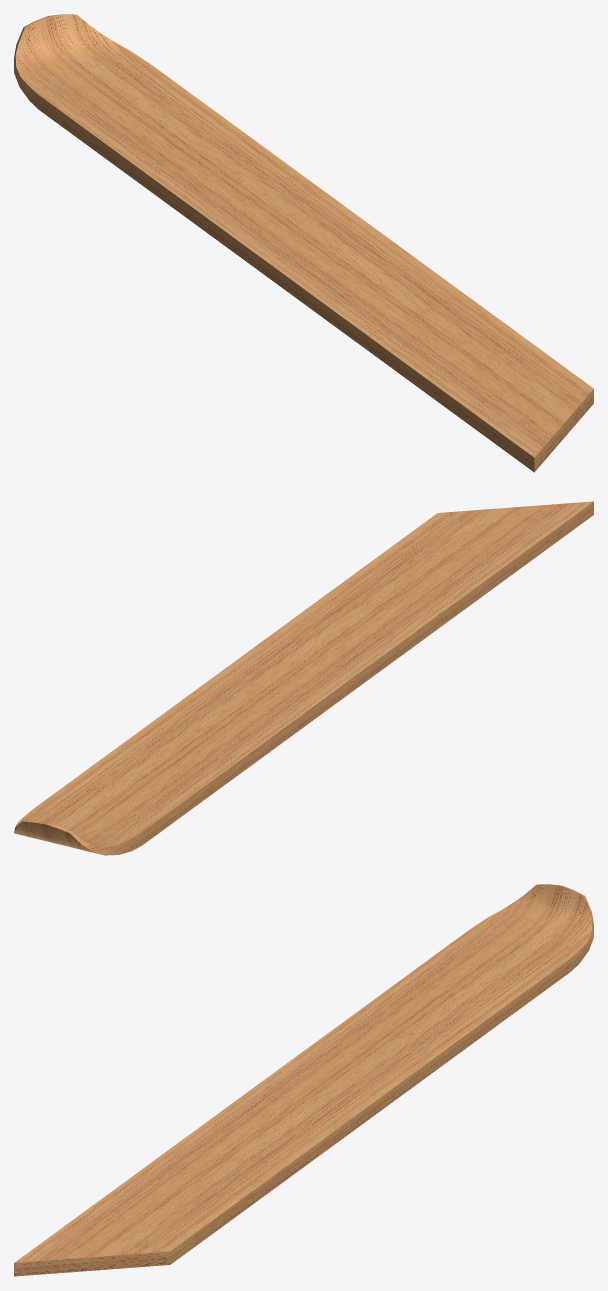
The model's file is MuDao.fbx.
The picture shows the model from 3 angles, top to bottom: view 1: azimuth 30°, elevation 25°; view 2: azimuth 150°, elevation 25°; view 3: azimuth 330°, elevation 25°; orthographic projection. The views are drawn at different scales.
Visible parts, largest first — view 1: Step_TianNi_MuDao_ZH_3; view 2: Step_TianNi_MuDao_ZH_3; view 3: Step_TianNi_MuDao_ZH_3.
Boxes of the visible parts, <box> form: Step_TianNi_MuDao_ZH_3: <box>14,14,593,472</box>; Step_TianNi_MuDao_ZH_3: <box>14,501,593,855</box>; Step_TianNi_MuDao_ZH_3: <box>14,884,593,1276</box>.
Bounding box in the file's own units: 45.03 × 17.02 × 367.
